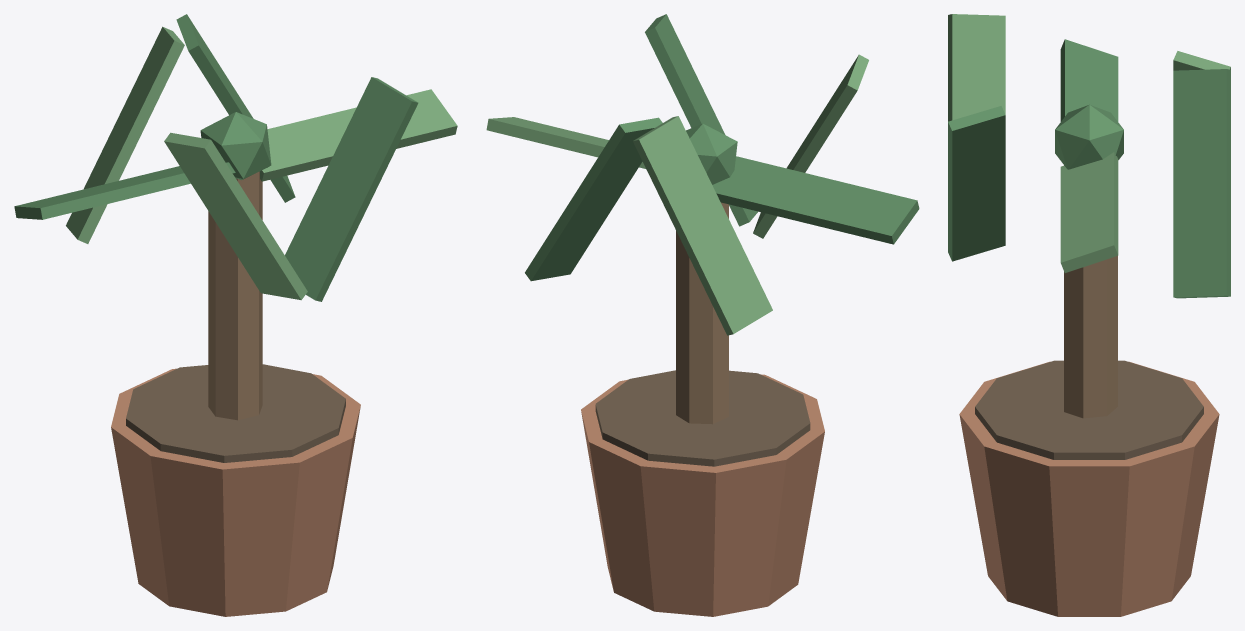
The model's file is pla_palmeira_mini.glb.
3 views of the same model, side by side, from view 1: azimuth 30°, elevation 25°; view 2: azimuth 150°, elevation 25°; view 3: azimuth 270°, elevation 25° (orthographic). The views are drawn at different scales.
Visible parts, largest first — view 1: PLA_PALMEIRA_MINI_v01; view 2: PLA_PALMEIRA_MINI_v01; view 3: PLA_PALMEIRA_MINI_v01.
Boxes of the visible parts, left/top/right/bottom form: PLA_PALMEIRA_MINI_v01: left=14, top=14, right=457, bottom=616; PLA_PALMEIRA_MINI_v01: left=486, top=14, right=919, bottom=616; PLA_PALMEIRA_MINI_v01: left=948, top=14, right=1230, bottom=616.
Bounding box in the file's own units: 0.6 × 0.7008 × 0.348.
